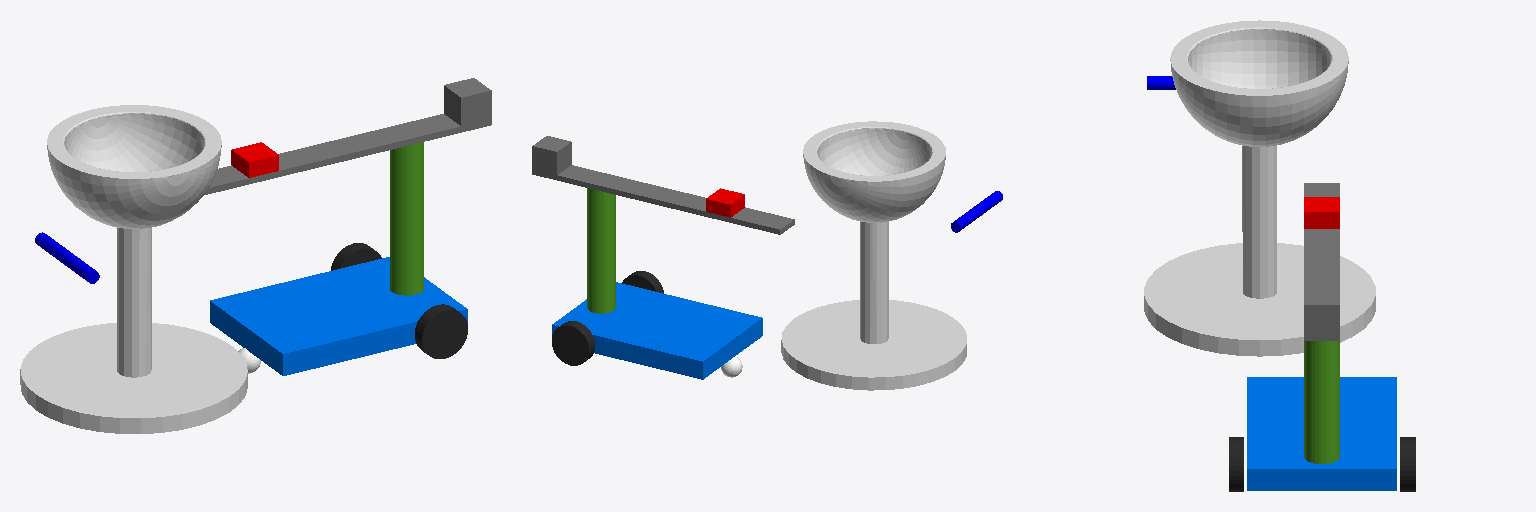
robot.urdf — ur5:
<?xml version="1.0"?>
<robot name="ur5" xmlns:controller="http://playerstage.sourceforge.net/gazebo/xmlschema/#controller" xmlns:interface="http://playerstage.sourceforge.net/gazebo/xmlschema/#interface" xmlns:sensor="http://playerstage.sourceforge.net/gazebo/xmlschema/#sensor" xmlns:xacro="http://ros.org/wiki/xacro">
  <material name="UR/Blue">
    <color rgba="0.0 0.0 0.8 1.0"/>
  </material>
  <material name="UR/Grey">
    <color rgba="0.7 0.7 0.7 1.0"/>
  </material>
  <!-- arm -->
    <!-- World link to fix basin -->
  <link name="world"/>


  <link name="base_link">
    <visual>
      <origin xyz="0 0 0" rpy="0 0 0" />
      <geometry>
        <box size="0.6096 0.4191 0.07"/>
      </geometry>
      <material name="blue">
        <color rgba="0 0.5 1 1"/>
      </material>
    </visual>

    <collision>
      <origin xyz="0 0 0" rpy="0 0 0"/>
      <geometry>
        <box size="0.6096 0.4191 0.07"/>
      </geometry>
    </collision>

    <inertial>
      <mass value="5"/>
      <inertia ixx="0.13" ixy="0.0" ixz="0.0" iyy="0.21" iyz="0.0" izz="0.13"/>
    </inertial>
  </link>

  <!-- ========================= -->
  <!-- Wheels -->
  <!-- ========================= -->
  <!-- Right Wheel -->
  <link name="right_wheel">
    <visual>
      <origin xyz="0 0 0" rpy="1.570795 0 0"/>
      <geometry>
        <cylinder radius="0.0762" length="0.04318"/>
      </geometry>
      <material name="darkgray">
        <color rgba=".2 .2 .2 1"/>
      </material>
    </visual>
    <collision>
      <origin xyz="0 0 0" rpy="1.570795 0 0"/>
      <geometry>
        <cylinder radius="0.0762" length="0.04318"/>
      </geometry>
    </collision>
    <inertial>
      <mass value="0.5"/>
      <inertia ixx="0.01" ixy="0.0" ixz="0.0" iyy="0.005" iyz="0.0" izz="0.005"/>
    </inertial>
  </link>
  <joint name="joint_right_wheel" type="continuous">
    <parent link="base_link"/>
    <child link="right_wheel"/>
    <origin xyz="0.2 0.24 0" rpy="0 0 0"/>
    <axis xyz="0 1 0"/>
  </joint>

  <!-- Left Wheel -->
  <link name="left_wheel">
    <visual>
      <origin xyz="0 0 0" rpy="1.570795 0 0"/>
      <geometry>
        <cylinder radius="0.0762" length="0.04318"/>
      </geometry>
      <material name="darkgray">
        <color rgba=".2 .2 .2 1"/>
      </material>
    </visual>
    <collision>
      <origin xyz="0 0 0" rpy="1.570795 0 0"/>
      <geometry>
        <cylinder radius="0.0762" length="0.04318"/>
      </geometry>
    </collision>
    <inertial>
      <mass value="0.5"/>
      <inertia ixx="0.01" ixy="0.0" ixz="0.0" iyy="0.005" iyz="0.0" izz="0.005"/>
    </inertial>
  </link>
  <joint name="joint_left_wheel" type="continuous">
    <parent link="base_link"/>
    <child link="left_wheel"/>
    <origin xyz="0.2 -0.24 0" rpy="0 0 0"/>
    <axis xyz="0 1 0"/>
  </joint>

  <!-- ========================= -->
  <!-- Caster -->
  <!-- ========================= -->
  <link name="caster">
    <visual>
      <origin xyz="0 0 0" rpy="0 0 0"/>
      <geometry>
        <sphere radius="0.0381"/>
      </geometry>
      <material name="white">
        <color rgba="1 1 1 1"/>
      </material>
    </visual>
    <collision>
      <origin xyz="0 0 0" rpy="0 0 0"/>
      <geometry>
        <sphere radius="0.0381"/>
      </geometry>
    </collision>
    <inertial>
      <mass value="0.5"/>
      <inertia ixx="0.0001" ixy="0.0" ixz="0.0" iyy="0.0001" iyz="0.0" izz="0.0001"/>
    </inertial>
  </link>
  <joint name="caster_joint" type="continuous">
    <parent link="base_link"/>
    <child link="caster"/>
    <origin xyz="-0.3 0.0 -0.07" rpy="1.57 0 0"/>
  </joint>

  <!-- ========================= -->
  <!-- Pole and Plate -->
  <!-- ========================= -->
  <link name="pole">
    <visual>
      <origin xyz="0 0 0" rpy="0 0 0"/>
      <geometry>
        <cylinder radius="0.05" length="0.5"/>
      </geometry>
      <material name="grass">
        <color rgba="0.36 0.67 0.18 1"/>
      </material>
    </visual>
    <collision>
      <origin xyz="0 0 0" rpy="0 0 0"/>
      <geometry>
        <cylinder radius="0.05" length="0.5"/>
      </geometry>
    </collision>
    <inertial>
      <mass value="1.0"/>
      <inertia ixx="0.004375" ixy="0" ixz="0" iyy="0.004375" iyz="0" izz="0.005"/>
    </inertial>
  </link>
  <joint name="pole_joint" type="fixed">
    <parent link="base_link"/>
    <child link="pole"/>
    <origin xyz="0.225 0 0.27" rpy="0 0 3.1416"/>
  </joint>

  <!-- Rotating Plate -->
  <link name="plate">
    <visual>
      <origin xyz="0.25 0 0" rpy="0 0 0"/>
      <geometry>
        <box size="1.0 0.1 0.02"/>
      </geometry>
      <material name="gray">
        <color rgba="0.5 0.5 0.5 1"/>
      </material>
    </visual>
    <collision>
      <origin xyz="0 0 0" rpy="0 0 0"/>
      <geometry>
        <box size="0.5 0.3 0.02"/>
      </geometry>
    </collision>
    <inertial>
      <mass value="1.0"/>
      <inertia ixx="0.01" ixy="0.0" ixz="0" iyy="0.01" iyz="0" izz="0.01"/>
    </inertial>
  </link>
  <joint name="plate_joint" type="revolute">
    <parent link="pole"/>
    <child link="plate"/>
    <origin xyz="0 0 0.25" rpy="0 0 0"/>
    <axis xyz="0 1 0"/>
    <limit lower="-3.1416" upper="3.1416" effort="5" velocity="1"/>
  </joint>

  <!-- Plate Slider -->
  <link name="plate_slider">
    <visual>
      <origin xyz="0.5 0 0.0" rpy="0 0 0"/>
      <geometry>
        <box size="0.1 0.1 0.05"/>
      </geometry>
      <material name="red">
        <color rgba="1 0 0 1"/>
      </material>
    </visual>
    <collision>
      <origin xyz="0.5 0 0.05" rpy="0 0 0"/>
      <geometry>
        <box size="0.1 0.1 0.02"/>
      </geometry>
    </collision>
    <inertial>
      <mass value="0.2"/>
      <inertia ixx="0.001" ixy="0.0" ixz="0" iyy="0.001" iyz="0" izz="0.001"/>
    </inertial>
  </link>
  <joint name="plate_slider_joint" type="prismatic">
    <parent link="plate"/>
    <child link="plate_slider"/>
    <origin xyz="0 0 0.035" rpy="0 0 0"/>
    <axis xyz="0 0 1"/>
    <limit lower="-0.5" upper="0.25" effort="5" velocity="0.1"/>
  </joint>


  <link name="base_link_1">
    <visual>
      <geometry>
        <mesh filename="package://ur5_description/meshes/ur5/visual/Base.dae"/>
      </geometry>
      <origin rpy="0.0 0.0 2.3561944875" xyz="0.0 0.0 0.003"/>
    </visual>

    <collision>
      <geometry>
        <mesh filename="package://ur5_description/meshes/ur5/collision/Base.dae"/>
      </geometry>

    </collision>
  <inertial>
    <mass value="4.0"/>
    <inertia ixx="1.0" ixy="0.0" ixz="0.0" iyy="1.0" iyz="0.0" izz="1.0"/>
  </inertial>
  </link>
  
<joint name="base_to_ur5" type="fixed">
  <parent link="plate_slider"/>
  <child link="base_link_1"/>
  <origin xyz="0.5 0 0.025" rpy="0 0 0"/> <!-- adjust Z height as needed -->
</joint>

  <joint name="shoulder_pan_joint" type="revolute">
    <parent link="base_link_1"/>
    <child link="shoulder_link"/>
    <origin rpy="0.0 0.0 0.0" xyz="0.0 0.0 0.089159"/>
    <axis xyz="0 0 1"/>
    <limit effort="10.0" lower="-3.14159265" upper="3.14159265" velocity="3.14159265"/>
    <dynamics damping="10" friction="0.1"/>
  </joint>
  <link name="shoulder_link">
    <visual>
      <geometry>
        <mesh filename="package://ur5_description/meshes/ur5/visual/Shoulder.dae"/>
      </geometry>
    </visual>
    <collision>
      <geometry>
        <mesh filename="package://ur5_description/meshes/ur5/collision/Shoulder.dae"/>
      </geometry>
      <!-- <origin rpy="0.0 0.0 0.0" xyz="0.0 0.0 -0.009159"/> -->
    </collision>
    <inertial>
      <mass value="3.7"/>
      <inertia ixx="1.0" ixy="0.0" ixz="0.0" iyy="1.0" iyz="0.0" izz="1.0"/>
      <origin rpy="0.0 0.0 0.0" xyz="0.0 0.00193 -0.02561"/>
    </inertial>
  </link>
  <joint name="shoulder_lift_joint" type="revolute">
    <parent link="shoulder_link"/>
    <child link="upper_arm_link"/>
    <origin rpy="0.0 1.570796325 0.0" xyz="0.0 0.13585 0.0"/>
    <axis xyz="0 1 0"/>
    <limit effort="10.0" lower="-3.14159265" upper="3.14159265" velocity="3.14159265"/>
    <dynamics damping="10" friction="0.1"/>
  </joint>
  <link name="upper_arm_link">
    <visual>
      <geometry>
        <mesh filename="package://ur5_description/meshes/ur5/visual/UpperArm.dae"/>
      </geometry>
      <origin rpy="0.0 0.0 0.0" xyz="0.0 0.0 0.0"/>
    </visual>
    <collision>
      <geometry>
        <mesh filename="package://ur5_description/meshes/ur5/collision/UpperArm.dae"/>
      </geometry>
      <!--       <origin rpy="0.0 0.0 0.0" xyz="0.0 0.0 0.2125"/> -->
    </collision>
    <inertial>
      <mass value="8.393"/>
      <inertia ixx="1.0" ixy="0.0" ixz="0.0" iyy="1.0" iyz="0.0" izz="1.0"/>
      <origin rpy="0.0 0.0 0.0" xyz="0.0 -0.024201 0.2125"/>
    </inertial>
  </link>
  <joint name="elbow_joint" type="revolute">
    <parent link="upper_arm_link"/>
    <child link="forearm_link"/>
    <origin rpy="0.0 0.0 0.0" xyz="0.0 -0.1197 0.425"/>
    <axis xyz="0 1 0"/>
    <limit effort="10.0" lower="-3.14159265" upper="3.14159265" velocity="3.14159265"/>
    <dynamics damping="10" friction="0.1"/>
  </joint>
  <link name="forearm_link">
    <visual>
      <geometry>
        <mesh filename="package://ur5_description/meshes/ur5/visual/Forearm.dae"/>
      </geometry>
    </visual>
    <collision>
      <geometry>
        <mesh filename="package://ur5_description/meshes/ur5/collision/Forearm.dae"/>
      </geometry>
      <!--       <origin rpy="0.0 0.0 0.0" xyz="0.0 0.0 0.196125"/> -->
    </collision>
    <inertial>
      <mass value="2.275"/>
      <origin rpy="0.0 0.0 0.0" xyz="0.0 0.0265 0.11993"/>
      <inertia ixx="1.0" ixy="0.0" ixz="0.0" iyy="1.0" iyz="0.0" izz="1.0"/>
    </inertial>
  </link>
  <joint name="wrist_1_joint" type="revolute">
    <parent link="forearm_link"/>
    <child link="wrist_1_link"/>
    <origin rpy="0.0 1.570796325 0.0" xyz="0.0 0.0 0.39225"/>
    <axis xyz="0 1 0"/>
    <limit effort="10.0" lower="-3.14159265" upper="0.7853981625" velocity="3.14159265"/>
    <dynamics damping="10" friction="0.1"/>
  </joint>
  <link name="wrist_1_link">
    <visual>
      <geometry>
        <mesh filename="package://ur5_description/meshes/ur5/visual/Wrist1.dae"/>
      </geometry>
      <origin rpy="0.0 1.570796325 0.0" xyz="0.0 0.093 0.0"/>
    </visual>
    <collision>
      <geometry>
        <mesh filename="package://ur5_description/meshes/ur5/collision/Wrist1.dae"/>
      </geometry>
      <origin rpy="0.0 1.570796325 0.0" xyz="0.0 0.093 0.0"/>
    </collision>
    <inertial>
      <mass value="1.219"/>
      <origin rpy="0.0 0.0 0.0" xyz="0.0 0.110949 0.01634"/>
      <inertia ixx="1.0" ixy="0.0" ixz="0.0" iyy="1.0" iyz="0.0" izz="1.0"/>
    </inertial>
  </link>
  <joint name="wrist_2_joint" type="revolute">
    <parent link="wrist_1_link"/>
    <child link="wrist_2_link"/>
    <origin rpy="0.0 0.0 0.0" xyz="0.0 0.093 0.0"/>
    <axis xyz="0 0 1"/>
    <limit effort="10.0" lower="-3.14159265" upper="3.14159265" velocity="3.14159265"/>
    <dynamics damping="10" friction="0.1"/>
  </joint>
  <link name="wrist_2_link">
    <visual>
      <geometry>
        <mesh filename="package://ur5_description/meshes/ur5/visual/Wrist2.dae"/>
      </geometry>
      <origin rpy="0.0 0.0 0.0" xyz="0.0 0.0 0.09465"/>
    </visual>
    <collision>
      <geometry>
        <mesh filename="package://ur5_description/meshes/ur5/collision/Wrist2.dae"/>
      </geometry>
      <origin rpy="0.0 0.0 0.0" xyz="0.0 0.0 0.09465"/>
    </collision>
    <inertial>
      <mass value="1.219"/>
      <origin rpy="0.0 0.0 0.0" xyz="0.0 0.0018 0.11099"/>
      <inertia ixx="1.0" ixy="0.0" ixz="0.0" iyy="1.0" iyz="0.0" izz="1.0"/>
    </inertial>
  </link>
  <joint name="wrist_3_joint" type="revolute">
    <parent link="wrist_2_link"/>
    <child link="wrist_3_link"/>
    <origin rpy="0.0 0.0 0.0" xyz="0.0 0.0 0.09465"/>
    <axis xyz="0 1 0"/>
    <limit effort="10.0" lower="-3.14159265" upper="3.14159265" velocity="3.14159265"/>
    <dynamics damping="10" friction="0.1"/>
  </joint>
  <link name="wrist_3_link">
    <visual>
      <geometry>
        <mesh filename="package://ur5_description/meshes/ur5/visual/Wrist3.dae"/>
      </geometry>
    </visual>
    <collision>
      <geometry>
        <mesh filename="package://ur5_description/meshes/ur5/collision/Wrist3.dae"/>
      </geometry>
    </collision>
    <inertial>
      <mass value="0.1879"/>
      <origin rpy="0.0 0.0 0.0" xyz="0.0 0.001159 0.0"/>
      <inertia ixx="1.0" ixy="0.0" ixz="0.0" iyy="1.0" iyz="0.0" izz="1.0"/>
    </inertial>
  </link>
  <joint name="ee_fixed_joint" type="fixed">
    <parent link="wrist_3_link"/>
    <child link="ee_link"/>
    <origin rpy="0.0 0.0 1.570796325" xyz="0.0 0.0823 0.0"/>
  </joint>
  <link name="ee_link"/>

  <link name="brush_link">
    <visual>
      <geometry>
        <cylinder length="0.3" radius="0.02"/>
      </geometry>
      <origin xyz="0 0 0.15" rpy="0 0 0"/> <!-- move +0.15 along Z -->
      <material name="blue">
        <color rgba="0 0 1 1"/>
      </material>
    </visual>
    <collision>
      <geometry>
        <cylinder length="0.1" radius="0.02"/>
      </geometry>
    </collision>
    <inertial>
      <mass value="0.1"/>
      <inertia ixx="0.0001" ixy="0" ixz="0" iyy="0.0001" iyz="0" izz="0.0001"/>
      <origin xyz="0 0 0.05" rpy="0 0 0"/>
    </inertial>
  </link>

    <!-- Fixed joint to attach to robot's end-effector -->
  <joint name="brush_joint" type="fixed">
    <parent link="ee_link"/> <!-- Replace ee_link with your robot's end-effector link -->
    <child link="brush_link"/>
    <origin xyz="0 0 0.0" rpy="0 1.57 0"/>
  </joint>




<!-- Joints -->

<!-- World → bottom cylinder -->
<joint name="world_to_base_link" type="fixed">
  <parent link="world"/>
  <child link="base_link"/>
  <origin xyz="0 0 0.05" rpy="0 0 0"/>
</joint>


<link name="washbasin_link">
  <visual>
    <geometry>
      <mesh filename="package://ur5_description/meshes/ur5/visual/basin.STL" scale="0.001 0.001 0.001"/>
    </geometry>
    <origin xyz="0.2 0 0.8" rpy="-3.14 0 0"/> <!-- half height above ground -->
    <material name="White">
      <color rgba="0.9 0.9 0.9 1.0"/>
    </material>
  </visual>
  <collision>
    <geometry>
      <cylinder radius="0.3" length="0.1"/> <!-- simple collision -->
    </geometry>
    <origin xyz="0 0 0.05" rpy="0 0 0"/>
  </collision>
  <inertial>
    <mass value="5.0"/>
    <inertia ixx="0.1" iyy="0.1" izz="0.1" ixy="0" ixz="0" iyz="0"/>
    <origin xyz="0 0 0.05" rpy="0 0 0"/>
  </inertial>
</link>

<joint name="world_to_washbasin" type="fixed">
  <parent link="world"/>
  <child link="washbasin_link"/>
  <origin xyz="-1.3 0.15 0.05" rpy="0 0 0"/>
</joint>


<!-- Attch a counte weight -->
<link name="counterweight">
  <visual>
    <origin xyz="-0.3 0 0.05" rpy="0 0 0"/> <!-- behind slider along -X -->
    <geometry>
      <box size="0.1 0.1 0.1"/> <!-- adjust size as needed -->
    </geometry>
    <material name="gray">
      <color rgba="0.5 0.5 0.5 1"/>
    </material>
  </visual>
  <collision>
    <origin xyz="-0.3 0 0.025" rpy="0 0 0"/>
    <geometry>
      <box size="0.1 0.1 0.05"/>
    </geometry>
  </collision>
  <inertial>
    <mass value="10000.0"/>
    <inertia ixx="1.0" ixy="0.0" ixz="0.0" iyy="1.0" iyz="0.0" izz="1.0"/>
  </inertial>
</link>

<joint name="counterweight_to_slider" type="fixed">
  <parent link="plate"/>
  <child link="counterweight"/>
  <origin xyz="0.1 0 0" rpy="0 0 0"/> <!-- relative to slider -->
</joint>


<gazebo reference="base_link_1">
    <material>Gazebo/Orange</material>
</gazebo>

<gazebo reference="shoulder_link">
    <material>Gazebo/Orange</material>
</gazebo>

<gazebo reference="upper_arm_link">
    <material>Gazebo/Orange</material>
</gazebo>

<gazebo reference="forearm_link">
    <material>Gazebo/Orange</material>
</gazebo>

<gazebo reference="wrist_1_link">
    <material>Gazebo/Red</material>
</gazebo>

<gazebo reference="wrist_2_link">
    <material>Gazebo/Orange</material>
</gazebo>

<gazebo reference="wrist_3_link">
    <material>Gazebo/Orange</material>
</gazebo>

<gazebo reference="base_link">
    <material>Gazebo/Black</material>
</gazebo>
<gazebo reference="right_wheel">
    <material>Gazebo/Black</material>
</gazebo>
<gazebo reference="left_wheel">
    <material>Gazebo/Black</material>
</gazebo>
<gazebo reference="caster">
    <material>Gazebo/Red</material>
</gazebo>
<gazebo reference="brush_link">
    <material>Gazebo/Blue</material>
</gazebo>
<gazebo reference="plate">
    <material>Gazebo/Red</material>
</gazebo>

<gazebo reference="counterweight">
    <material>Gazebo/Black</material>
</gazebo>





<!--  Addign Controllers -->

<ros2_control name="GazeboSystem" type="system">
  <hardware>
    <plugin>gazebo_ros2_control/GazeboSystem</plugin>
  </hardware>

  <!-- Shoulder Pan -->
  <joint name="shoulder_pan_joint">
      <param name="initial_position">-0.323</param>
      <command_interface name="effort"/>
      <command_interface name="velocity"/>
      <command_interface name="position"/>
      <state_interface name="position"/>
      <state_interface name="velocity"/>
      <state_interface name="effort"/>
  </joint>
  <!-- Shoulder Lift -->
  <joint name="shoulder_lift_joint">
      <param name="initial_position">-0.425</param>
      <command_interface name="effort"/>
      <command_interface name="velocity"/>
      <command_interface name="position"/>
      <state_interface name="position"/>
      <state_interface name="velocity"/>
      <state_interface name="effort"/>
  </joint>
  <!-- Elbow -->
  <joint name="elbow_joint">
      <param name="initial_position">0.357</param>
      <command_interface name="effort"/>
      <command_interface name="velocity"/>
      <command_interface name="position"/>
      <state_interface name="position"/>
      <state_interface name="velocity"/>
      <state_interface name="effort"/>
  </joint>
  <!-- Wrist 1 -->
  <joint name="wrist_1_joint">
      <param name="initial_position">-0.849</param>
      <command_interface name="effort"/>
      <command_interface name="velocity"/>
      <command_interface name="position"/>
      <state_interface name="position"/>
      <state_interface name="velocity"/>
      <state_interface name="effort"/>
  </joint>
  <!-- Wrist 2 -->
  <joint name="wrist_2_joint">
      <param name="initial_position">-1.817</param>
      <command_interface name="effort"/>
      <command_interface name="velocity"/>
      <command_interface name="position"/>
      <state_interface name="position"/>
      <state_interface name="velocity"/>
      <state_interface name="effort"/>
  </joint>
  <!-- Wrist 3 -->
  <joint name="wrist_3_joint">
      <param name="initial_position">-0.493</param>
      <command_interface name="effort"/>
      <command_interface name="velocity"/>
      <command_interface name="position"/>
      <state_interface name="position"/>
      <state_interface name="velocity"/>
      <state_interface name="effort"/>
  </joint>

</ros2_control>

<gazebo>
  <plugin name="gazebo_ros2_control" filename="libgazebo_ros2_control.so">
    <robot_param>robot_description</robot_param>
    <robot_param_node>robot_state_publisher</robot_param_node>
    <parameters>
      [local-path]/UR5_AMR_CL_1/src/robotic_arms_control/robotic_arms_control/config/ur5_itc_controller.yaml
    </parameters>
  </plugin>
</gazebo>


</robot>

--- What the picture shows (computed from the rendered views, not written in the file) ---
The picture shows the robot from 3 angles, left to right: view 1: azimuth 30°, elevation 25°; view 2: azimuth 150°, elevation 25°; view 3: azimuth 270°, elevation 25°; orthographic projection.
Model ur5 with 19 links and 18 joints (7 revolute, 3 continuous, 1 prismatic, 7 fixed), rooted at world, posed all joints at 0.
Links seen in each view (by area): view 1: washbasin_link, base_link, plate, pole, left_wheel, counterweight, plate_slider, brush_link, right_wheel; view 2: washbasin_link, base_link, plate, pole, right_wheel, counterweight, plate_slider, brush_link, left_wheel; view 3: washbasin_link, base_link, pole, plate, counterweight, plate_slider, right_wheel, left_wheel.
Link boxes in pixels (x1,y1,x2,y2): washbasin_link: [20, 105, 247, 433]; base_link: [210, 257, 467, 375]; plate: [204, 114, 491, 194]; pole: [390, 142, 423, 295]; left_wheel: [415, 304, 467, 358]; counterweight: [444, 78, 491, 129]; plate_slider: [231, 142, 278, 177]; brush_link: [35, 232, 99, 283]; right_wheel: [331, 243, 381, 270]; washbasin_link: [781, 121, 966, 390]; base_link: [552, 282, 762, 379]; plate: [532, 165, 794, 234]; pole: [587, 188, 615, 313]; right_wheel: [552, 321, 594, 365]; counterweight: [532, 136, 571, 177]; plate_slider: [706, 188, 744, 217]; brush_link: [951, 191, 1002, 232]; left_wheel: [622, 271, 663, 293]; washbasin_link: [1144, 20, 1375, 356]; base_link: [1247, 377, 1396, 490]; pole: [1304, 341, 1339, 463]; plate: [1304, 183, 1339, 340]; counterweight: [1304, 290, 1339, 336]; plate_slider: [1304, 197, 1339, 228]; right_wheel: [1400, 437, 1415, 491]; left_wheel: [1229, 437, 1243, 491].
Bounding box of the posed robot: 1.59 × 0.7591 × 0.908 m (x, y, z).
1 mesh visuals loaded from 8 distinct referenced files (1 binary STL); not drawn: 7 (reference not matched to a file when rendering).